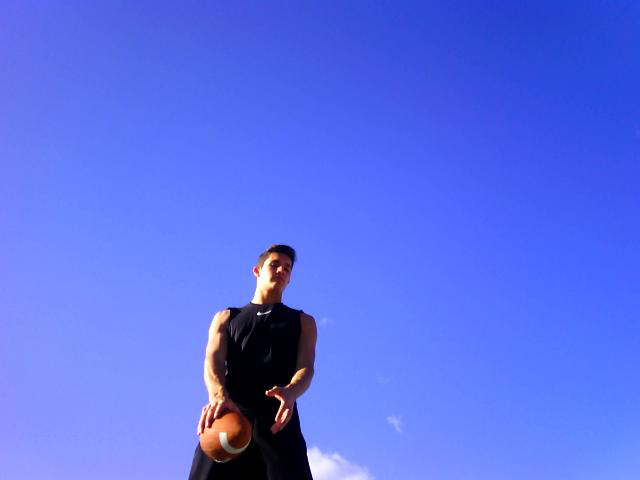football: (197, 408, 252, 465)
